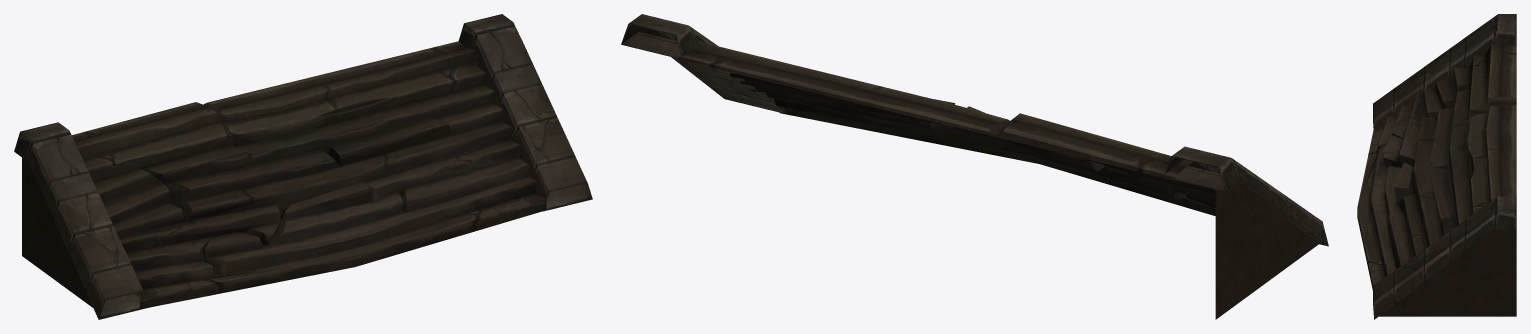
The model's file is fortress_half_stair_02.fbx.
The picture shows the model from 3 angles, left to right: view 1: azimuth 30°, elevation 25°; view 2: azimuth 150°, elevation 25°; view 3: azimuth 270°, elevation 25°; orthographic projection. The views are drawn at different scales.
Parts seen in each view (by area): view 1: fortress_half_stair_02-0; view 2: fortress_half_stair_02-0; view 3: fortress_half_stair_02-0.
Boxes of the visible parts, x1,y1,x2,y2 form: fortress_half_stair_02-0: (14,14,592,319); fortress_half_stair_02-0: (621,14,1328,319); fortress_half_stair_02-0: (1357,14,1516,319).
Size of the model in its own units: 13.36 by 3.23 by 4.44.
